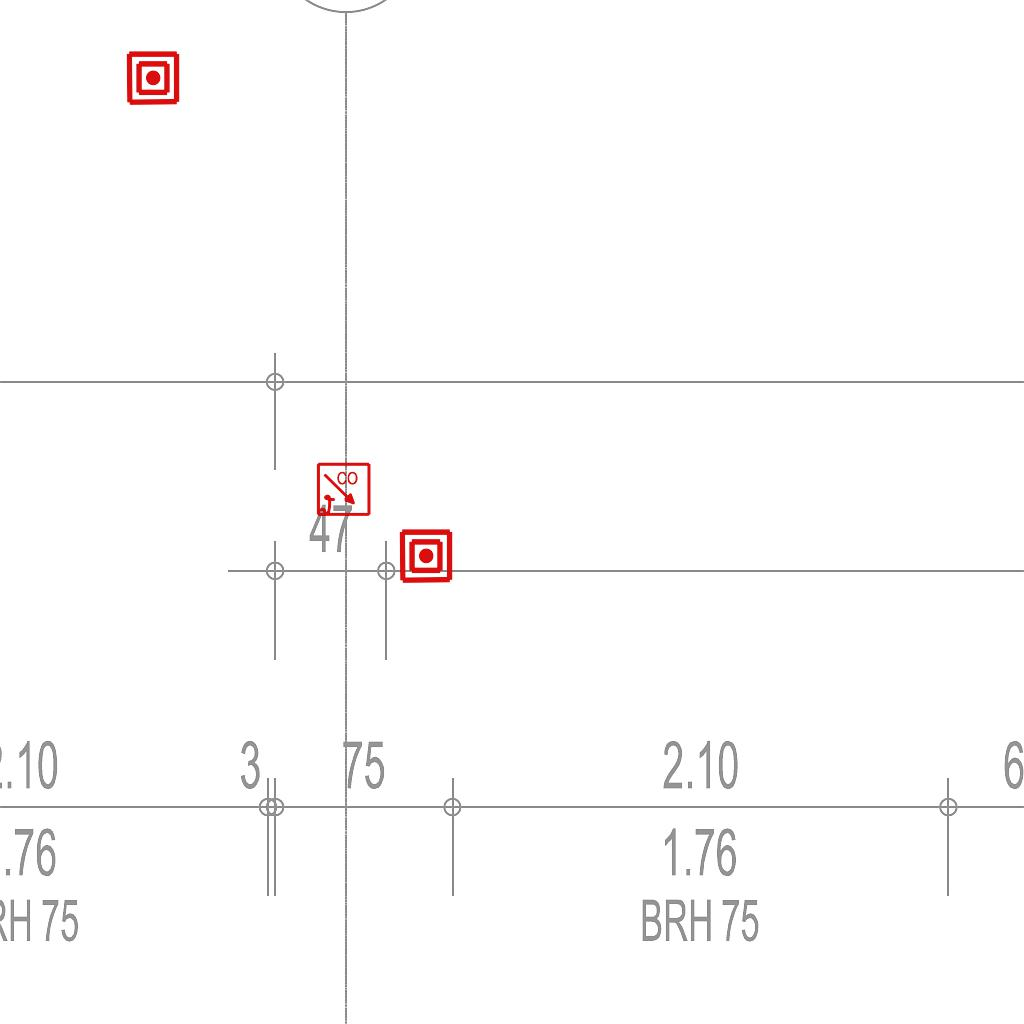NAM-Nichtautomatischer_Melder: (125, 50, 181, 106), (398, 528, 454, 584)
ROA_Rauchmelder_optisch_mit_Signalgeber_(Sockelsirene): (316, 462, 372, 518)
